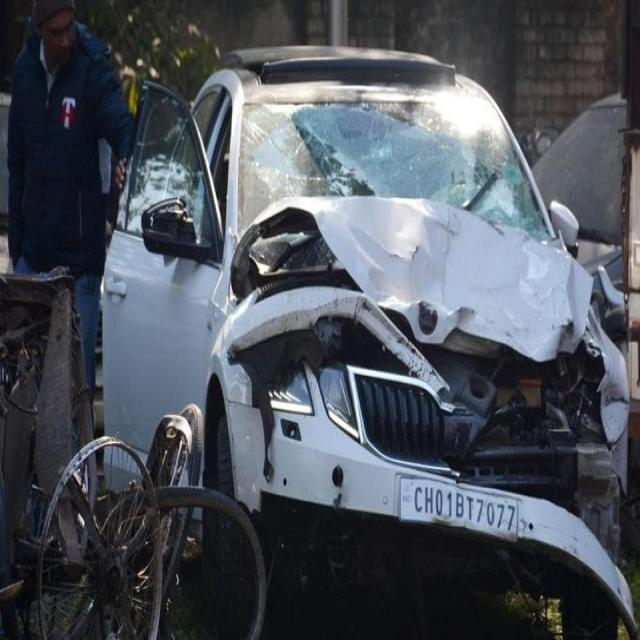accident: (106, 46, 638, 636), (0, 270, 266, 639)
